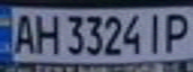2: (103, 11, 127, 57)
3: (81, 11, 106, 56), (60, 11, 84, 56)
4: (121, 11, 148, 56)
A: (6, 10, 39, 55)
H: (30, 10, 60, 55)
I: (142, 10, 169, 55)
P: (160, 9, 193, 54)
